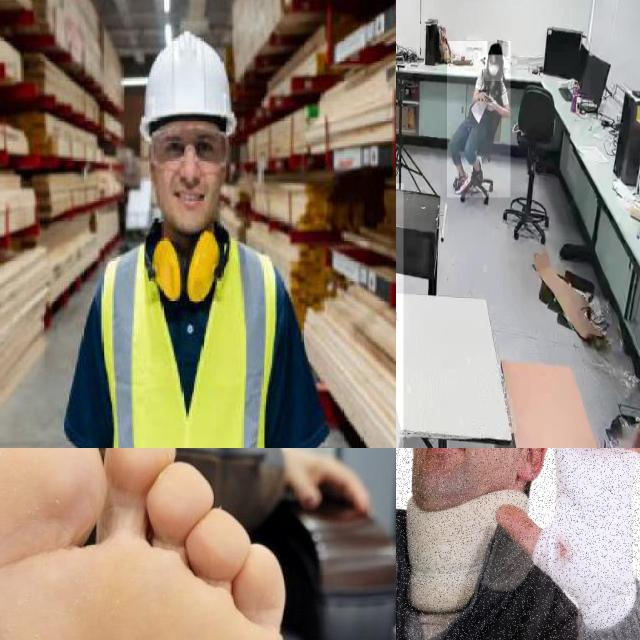Barefoots: (0, 448, 303, 640)
Ear-protection: (137, 219, 237, 307)
face_mask: (485, 54, 503, 81)
glasses: (147, 126, 232, 175)
hand_noglove: (486, 95, 496, 111), (478, 90, 488, 102)
head_helmet: (129, 27, 251, 143)
head_nohelmet: (402, 448, 543, 526), (487, 41, 503, 56)
person: (46, 1, 343, 448), (396, 448, 640, 640), (447, 41, 511, 198)
shoes: (452, 169, 472, 199), (474, 153, 484, 189)
vest: (94, 238, 277, 448)
